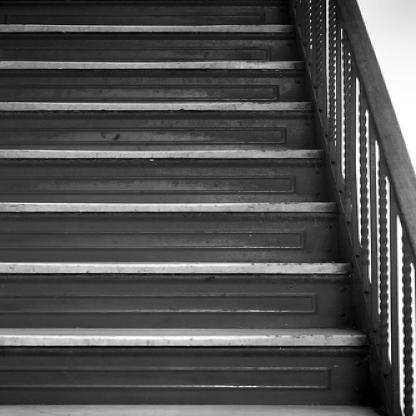stairs: (1, 132, 325, 410)
